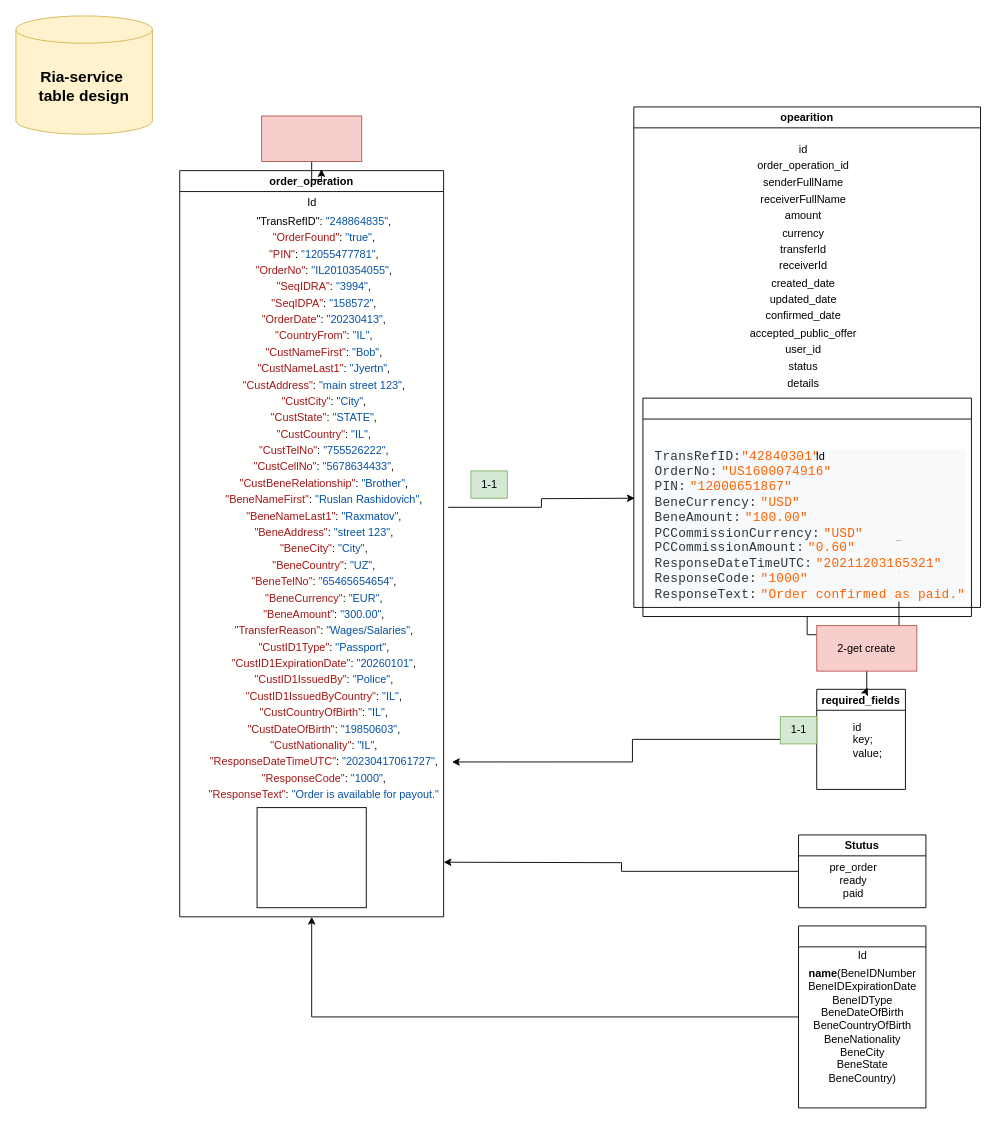
Image size: 996x1124. Some labels were removed from this diagram. Each missing label, with the box of its shape:
1-search create 2-createupdate 3-confirm update: (261, 115, 362, 162)
details: (642, 397, 971, 617)
Required filed names: (798, 925, 926, 1108)
Status reuqired_filednames required fileds opearion_id: (256, 807, 366, 908)
